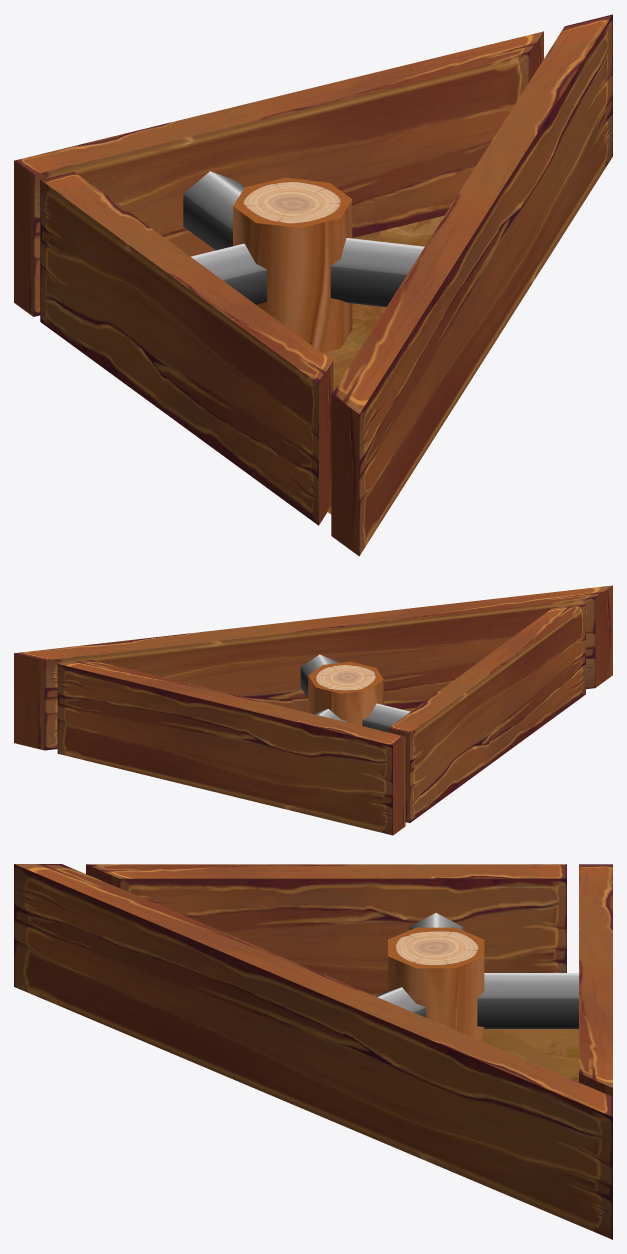
Rendered from triangle_wood_03.fbx.
3 views of the same model, one above another, from view 1: azimuth 30°, elevation 25°; view 2: azimuth 150°, elevation 25°; view 3: azimuth 270°, elevation 25° (orthographic). The views are drawn at different scales.
Parts seen in each view (by area): view 1: triangle_wood_03; view 2: triangle_wood_03; view 3: triangle_wood_03.
Boxes of the visible parts, bbox=[...] form: triangle_wood_03: bbox=[14, 14, 612, 556]; triangle_wood_03: bbox=[14, 585, 612, 835]; triangle_wood_03: bbox=[14, 864, 612, 1239].
Bounding box in the file's own units: 177 × 40 × 177.
